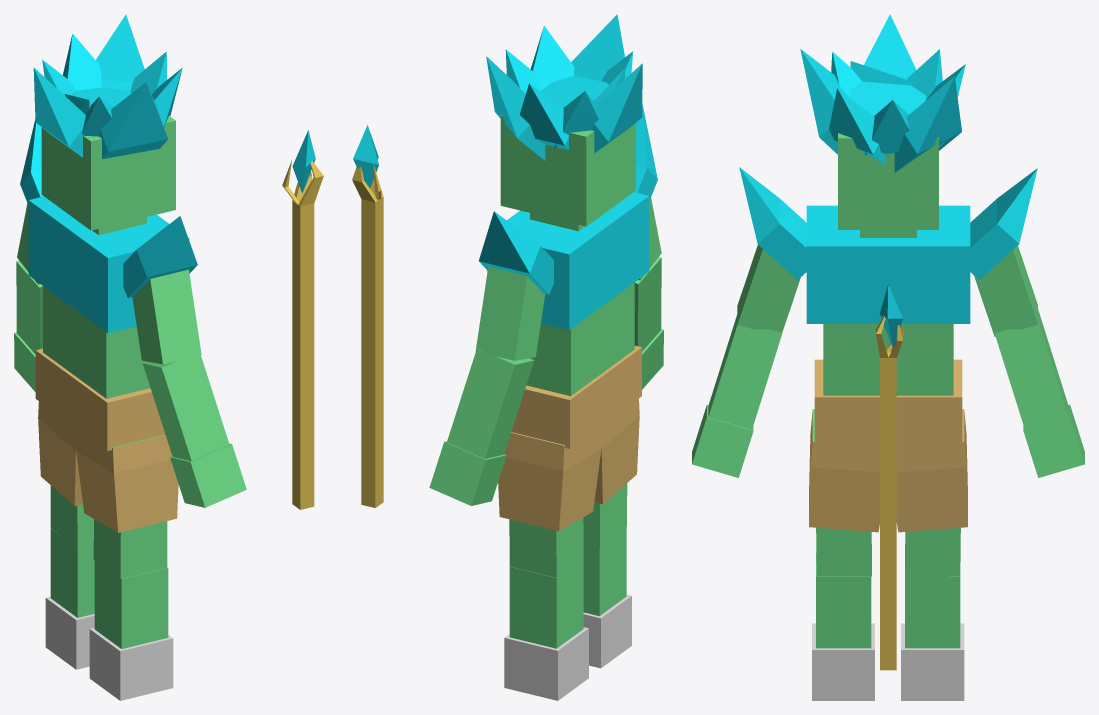
The model's file is ice_goblin.fbx.
3 views of the same model, side by side, from view 1: azimuth 30°, elevation 25°; view 2: azimuth 150°, elevation 25°; view 3: azimuth 270°, elevation 25° (orthographic). The views are drawn at different scales.
Visible parts, largest first — view 1: Cube.167, Cube.161, Cube.175, Cube.159, Cube.160, Cube.164, Cube.172, Cube.174, Cube.176, Cube.165, Cube.171, Cube.184 (+17 smaller); view 2: Cube.165, Cube.161, Cube.175, Cube.159, Cube.160, Cube.164, Cube.163, Cube.168, Cube.162, Cube.167, Cube.170, Cube.156 (+16 smaller); view 3: Cube.161, Cube.165, Cube.167, Cube.160, Cube.175, Cube.164, Cube.159, Cube.163, Cube.172, Cube.174, Cube.168, Cube.157 (+16 smaller).
Boxes of the visible parts, x1,y1,x2,y2 form: Cube.167: (75, 428, 178, 579); Cube.161: (28, 196, 189, 333); Cube.175: (41, 116, 175, 230); Cube.159: (282, 160, 323, 509); Cube.160: (43, 286, 150, 398); Cube.164: (35, 348, 165, 451); Cube.172: (142, 355, 229, 461); Cube.174: (94, 561, 168, 648); Cube.176: (132, 269, 201, 364); Cube.165: (38, 401, 93, 547); Cube.171: (89, 627, 173, 700); Cube.184: (99, 83, 167, 159); Cube.165: (498, 425, 602, 577); Cube.161: (487, 192, 649, 329); Cube.175: (500, 115, 635, 226); Cube.159: (352, 163, 383, 507); Cube.160: (526, 282, 634, 396); Cube.164: (511, 345, 641, 448); Cube.163: (447, 348, 534, 458); Cube.168: (509, 559, 583, 648); Cube.162: (475, 266, 545, 360); Cube.167: (583, 399, 639, 546); Cube.170: (504, 627, 588, 700); Cube.156: (479, 211, 553, 294); Cube.161: (806, 205, 970, 323); Cube.165: (896, 409, 967, 576); Cube.167: (809, 409, 879, 576); Cube.160: (823, 324, 953, 395); Cube.175: (838, 133, 938, 229); Cube.164: (814, 359, 962, 447); Cube.159: (876, 316, 903, 670); Cube.163: (994, 309, 1068, 429); Cube.172: (708, 314, 782, 429); Cube.174: (816, 553, 871, 648); Cube.168: (905, 576, 960, 648); Cube.157: (739, 167, 806, 279).
Size of the model in its own units: 357 by 745 by 417.
